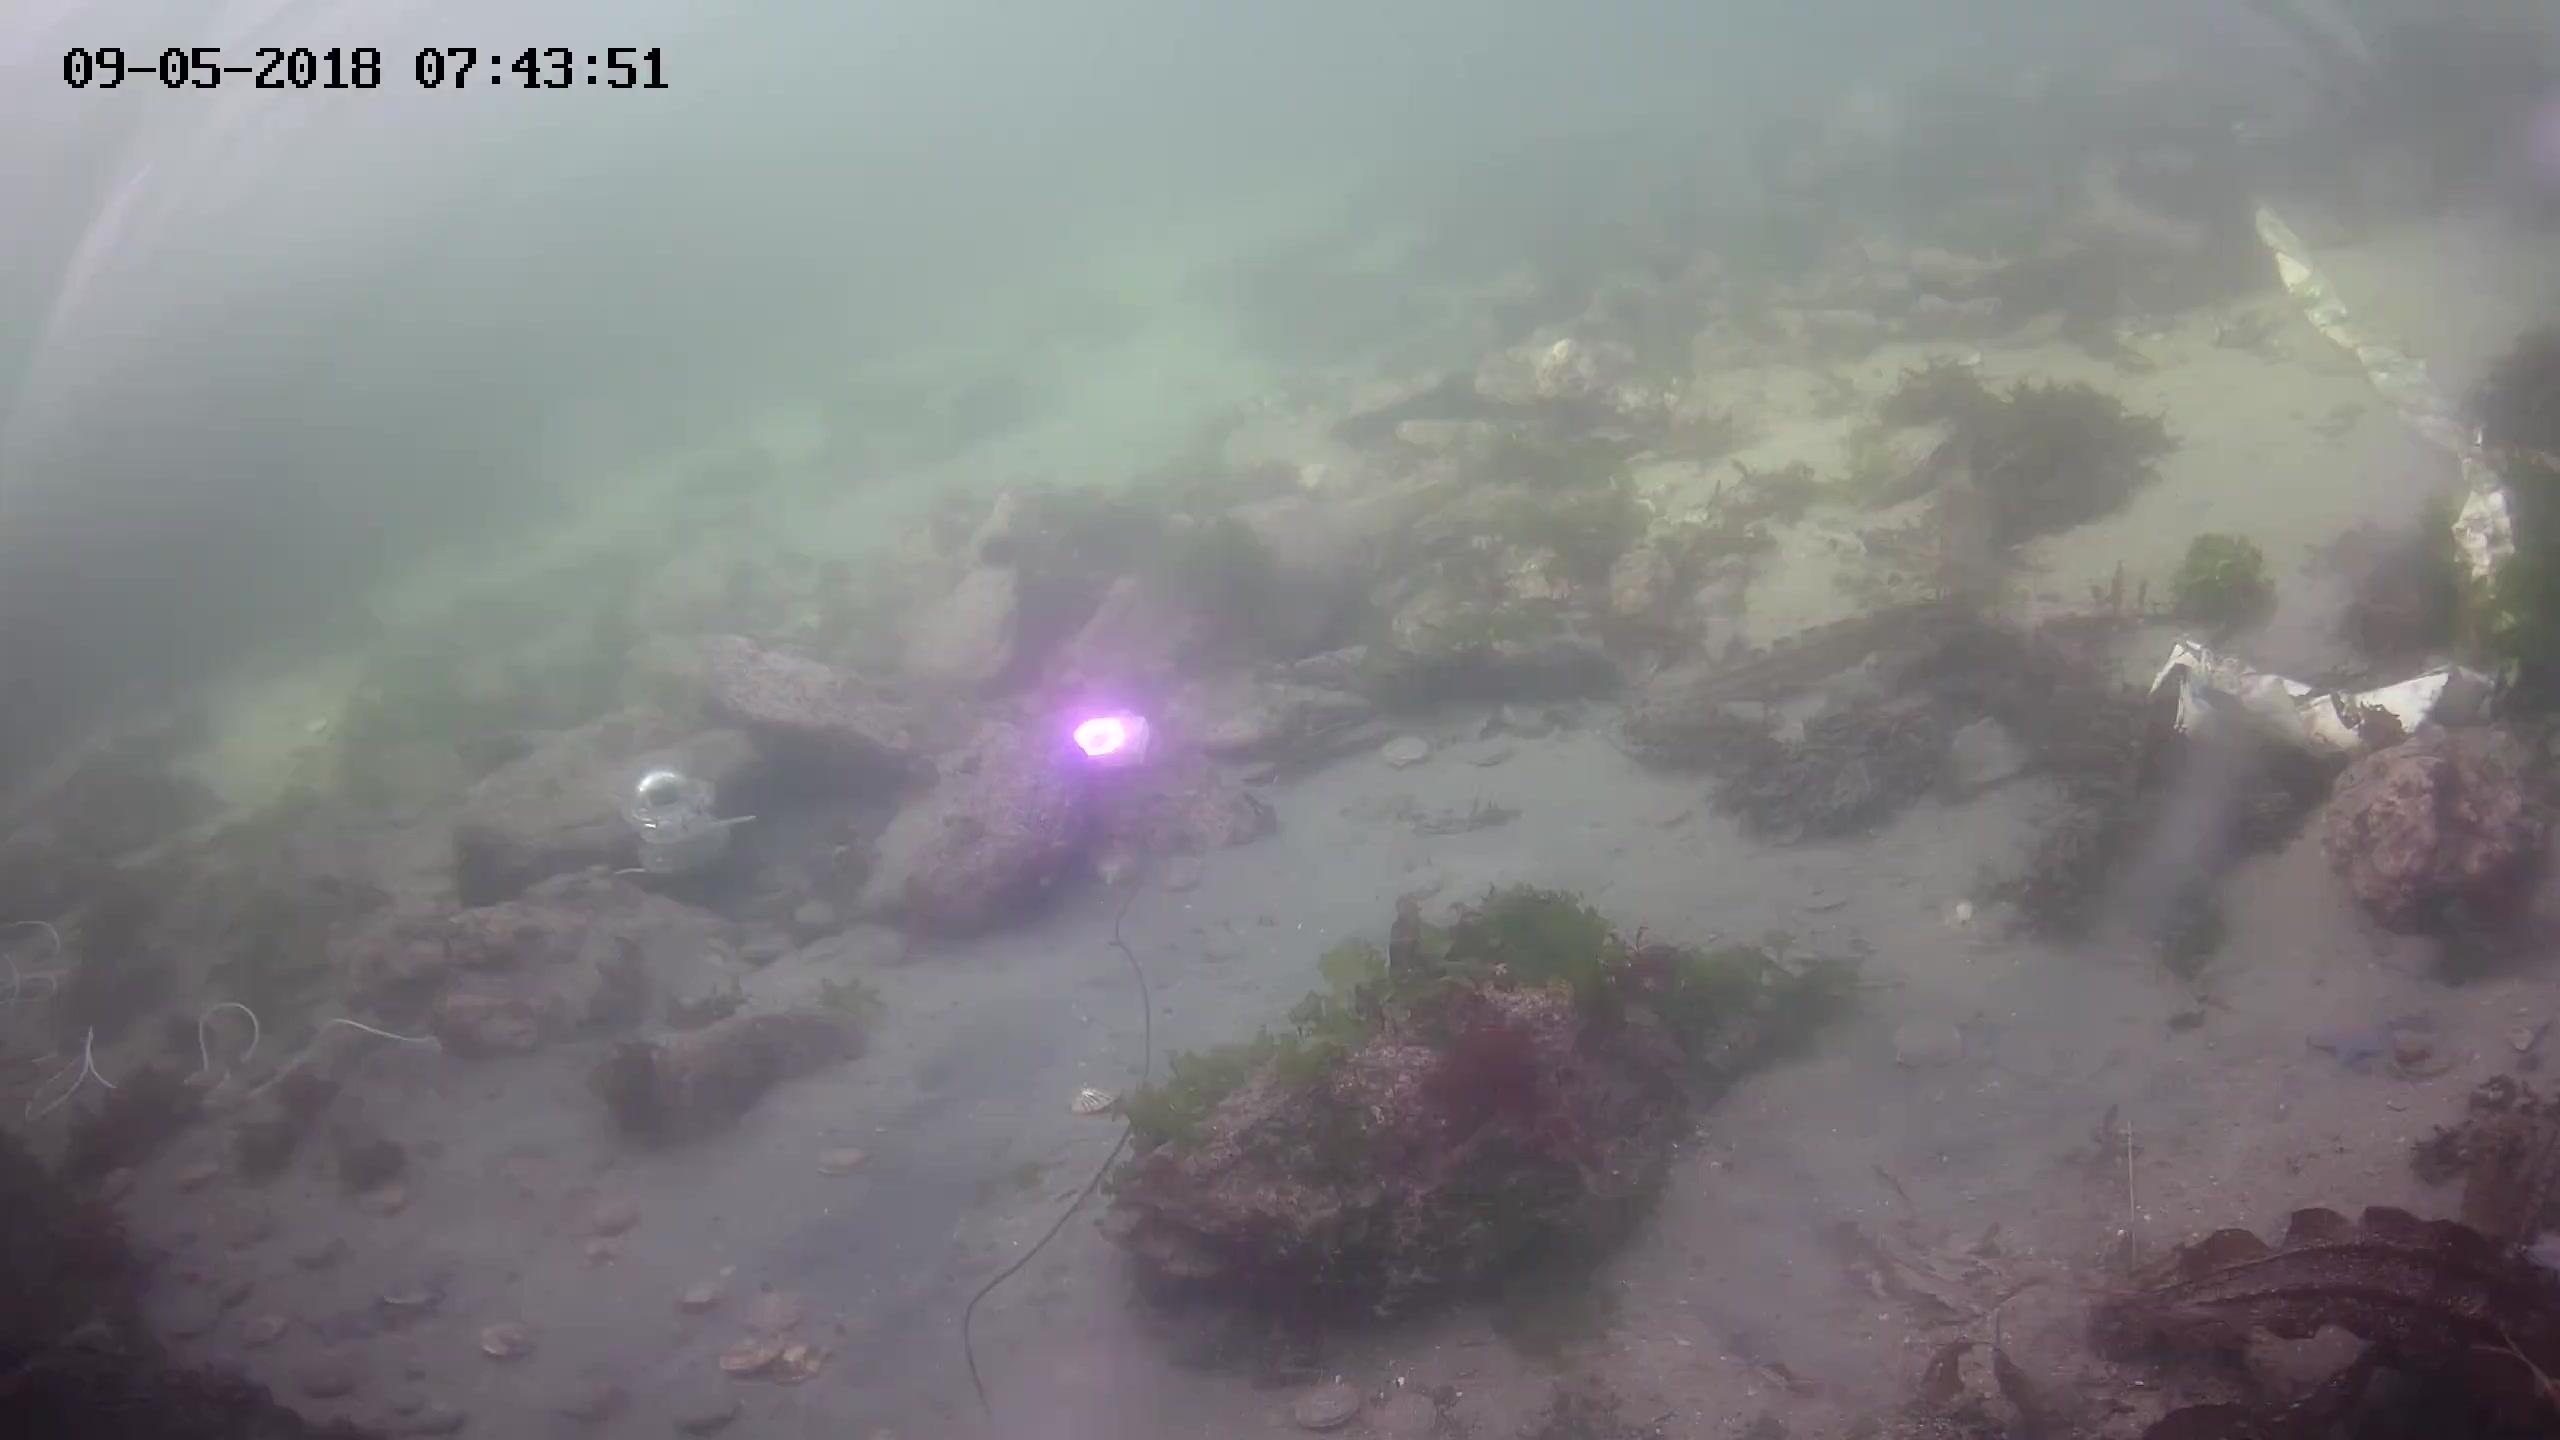scallop: (1282, 1373, 1366, 1431), (1342, 1393, 1433, 1440), (1885, 1020, 1967, 1071), (672, 1261, 751, 1312), (292, 1357, 359, 1408), (475, 1319, 554, 1361), (380, 1275, 454, 1319), (716, 1333, 784, 1377), (2388, 1036, 2456, 1080), (744, 1292, 812, 1335), (814, 1139, 877, 1183), (1375, 726, 1433, 772), (1065, 1080, 1127, 1116), (246, 1299, 285, 1349), (779, 1347, 833, 1377)
starfish: (2307, 1002, 2402, 1064), (315, 1299, 364, 1350)
